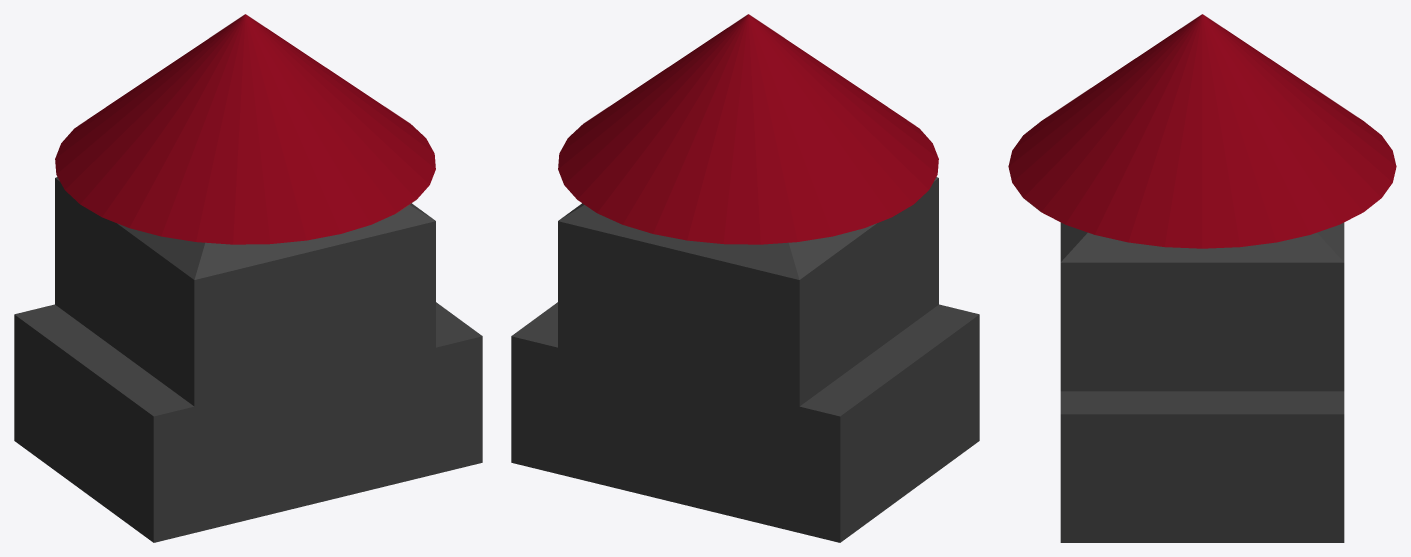
Rendered from enemyStation.obj.
The picture shows the model from 3 angles, left to right: view 1: azimuth 30°, elevation 25°; view 2: azimuth 150°, elevation 25°; view 3: azimuth 270°, elevation 25°; orthographic projection.
Parts seen in each view (by area): view 1: 立方体; view 2: 立方体; view 3: 立方体.
Part boxes in pixels (left/top/right/bottom): 立方体: left=14, top=14, right=482, bottom=542; 立方体: left=511, top=14, right=979, bottom=542; 立方体: left=1008, top=14, right=1396, bottom=542.
Bounding box in the file's own units: 5.8 × 7.31 × 5.76.
Materials: 1 (1 with a texture image).
